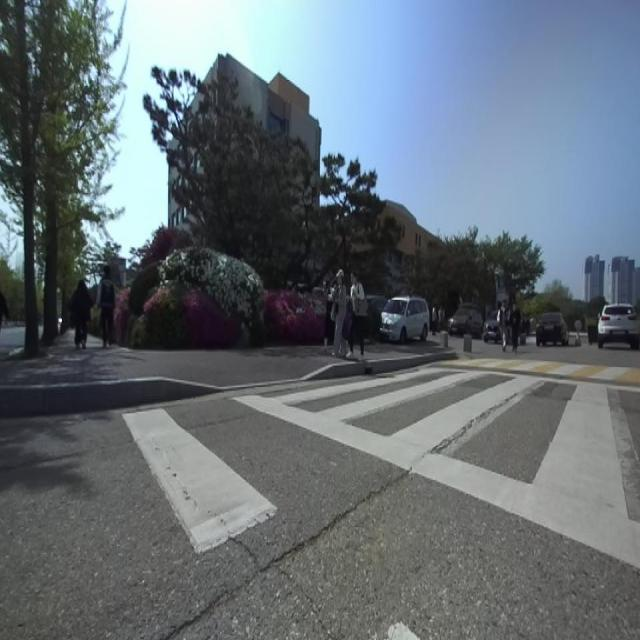sidewalk: (0, 330, 333, 386), (366, 340, 440, 359)
